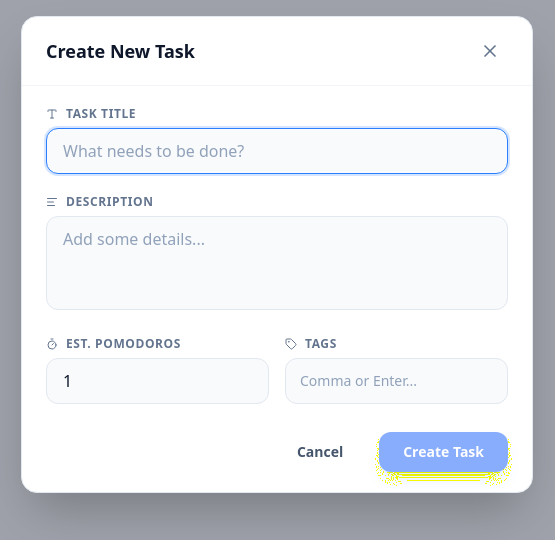
Test case: CreateTaskDialog › removes tag when tag remove button is clicked
Type "urgent" into the field with placeholder "Comma or Enter...".
click(396, 380); type("urgent")  # box [292,370,501,390]
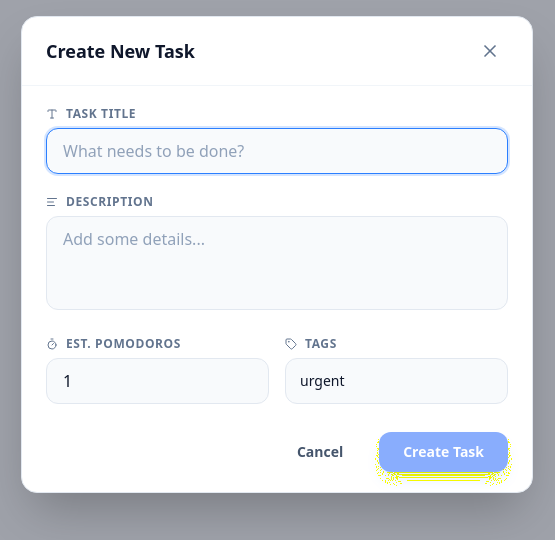
Press Enter in the field with placeholder "Comma or Enter...", box [292,370,501,390]
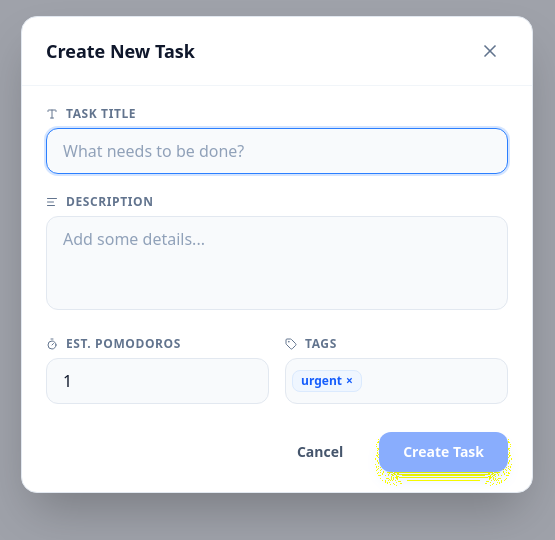
Click the button "×".
click(349, 380)  # box [346,372,353,388]
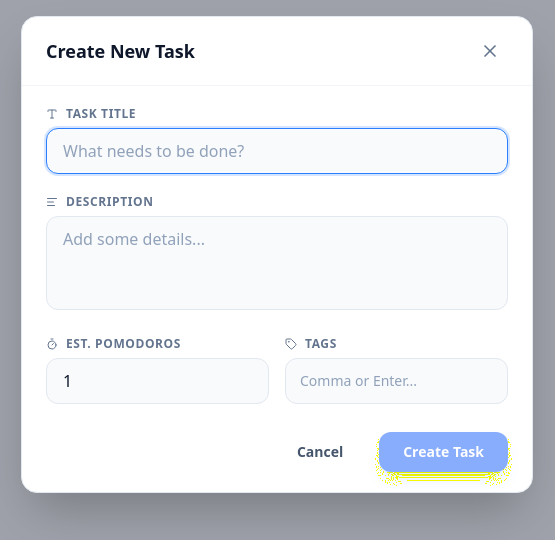
Expected: the text "urgent" is gone
